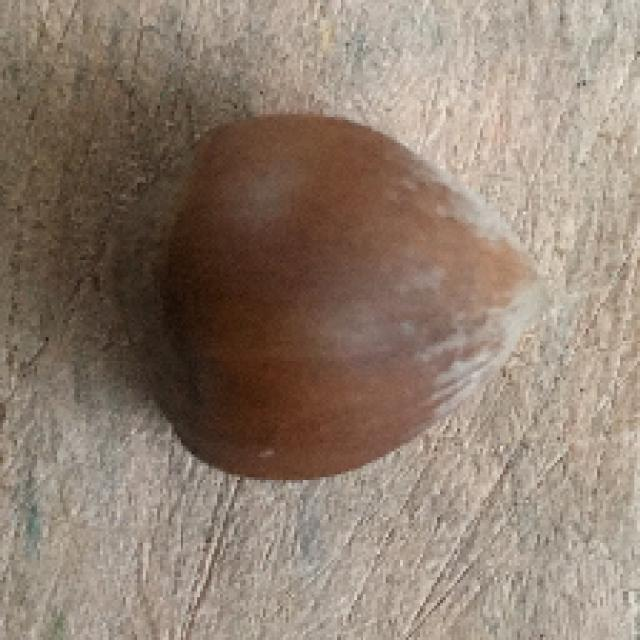damagedHazelnut: (144, 109, 552, 476)
